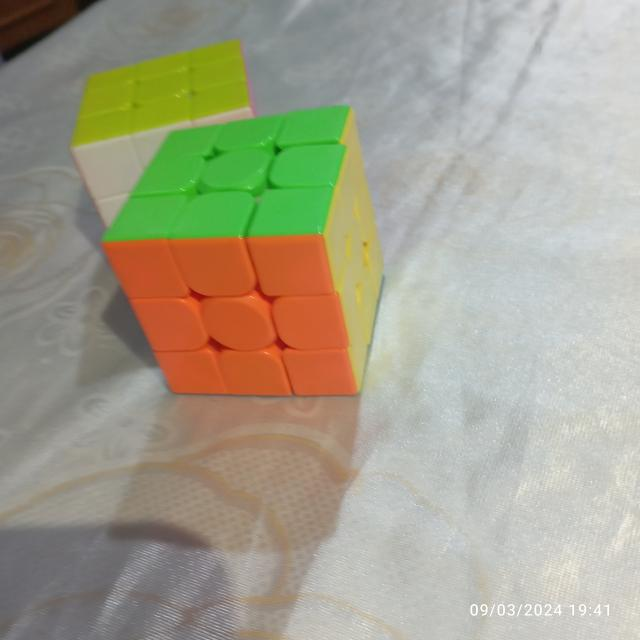Rub: (94, 104, 388, 402), (66, 36, 273, 238)
